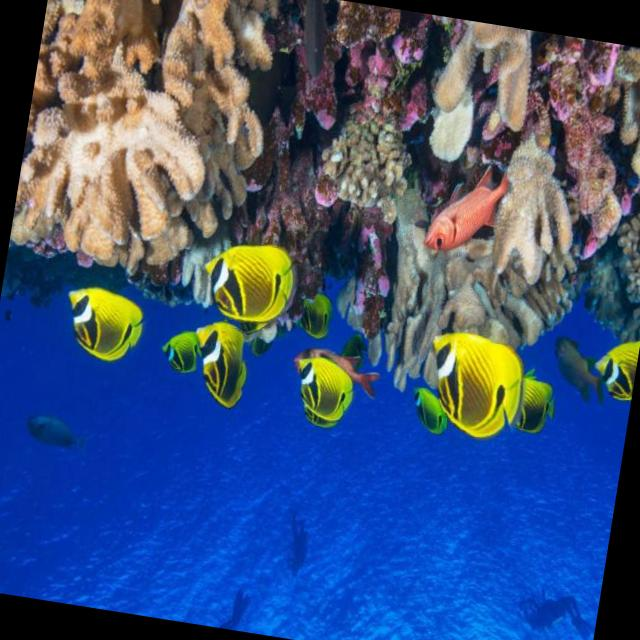ButterflyFish: (404, 312, 532, 448), (174, 223, 326, 336), (47, 266, 150, 379), (272, 342, 370, 458), (499, 342, 573, 485), (177, 314, 255, 423), (582, 311, 640, 416), (382, 374, 459, 444), (150, 318, 203, 392)
